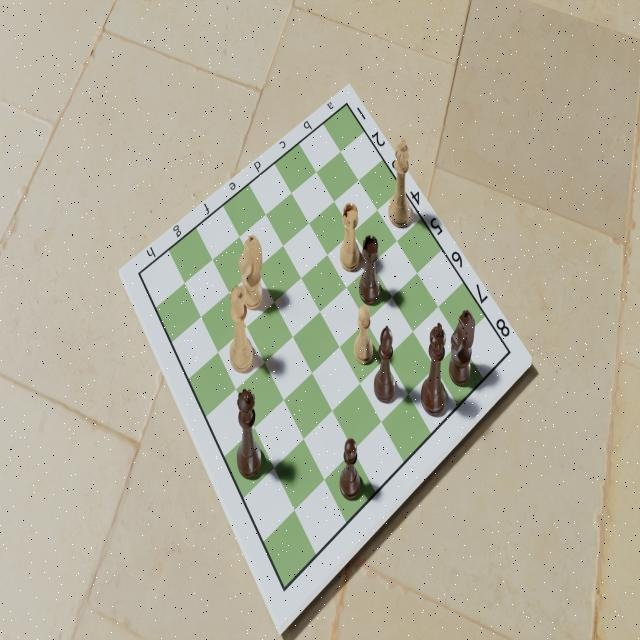black-bishop: (372, 325, 398, 406)
black-king: (417, 319, 449, 422)
black-knight: (447, 306, 475, 394)
black-pawn: (337, 433, 363, 503)
black-queen: (236, 385, 264, 482)
black-rook: (355, 233, 380, 307)
white-king: (387, 136, 413, 231)
white-knight: (238, 231, 266, 308)
white-pawn: (351, 303, 375, 368)
white-queen: (227, 280, 255, 379)
white-rook: (338, 199, 365, 277)
